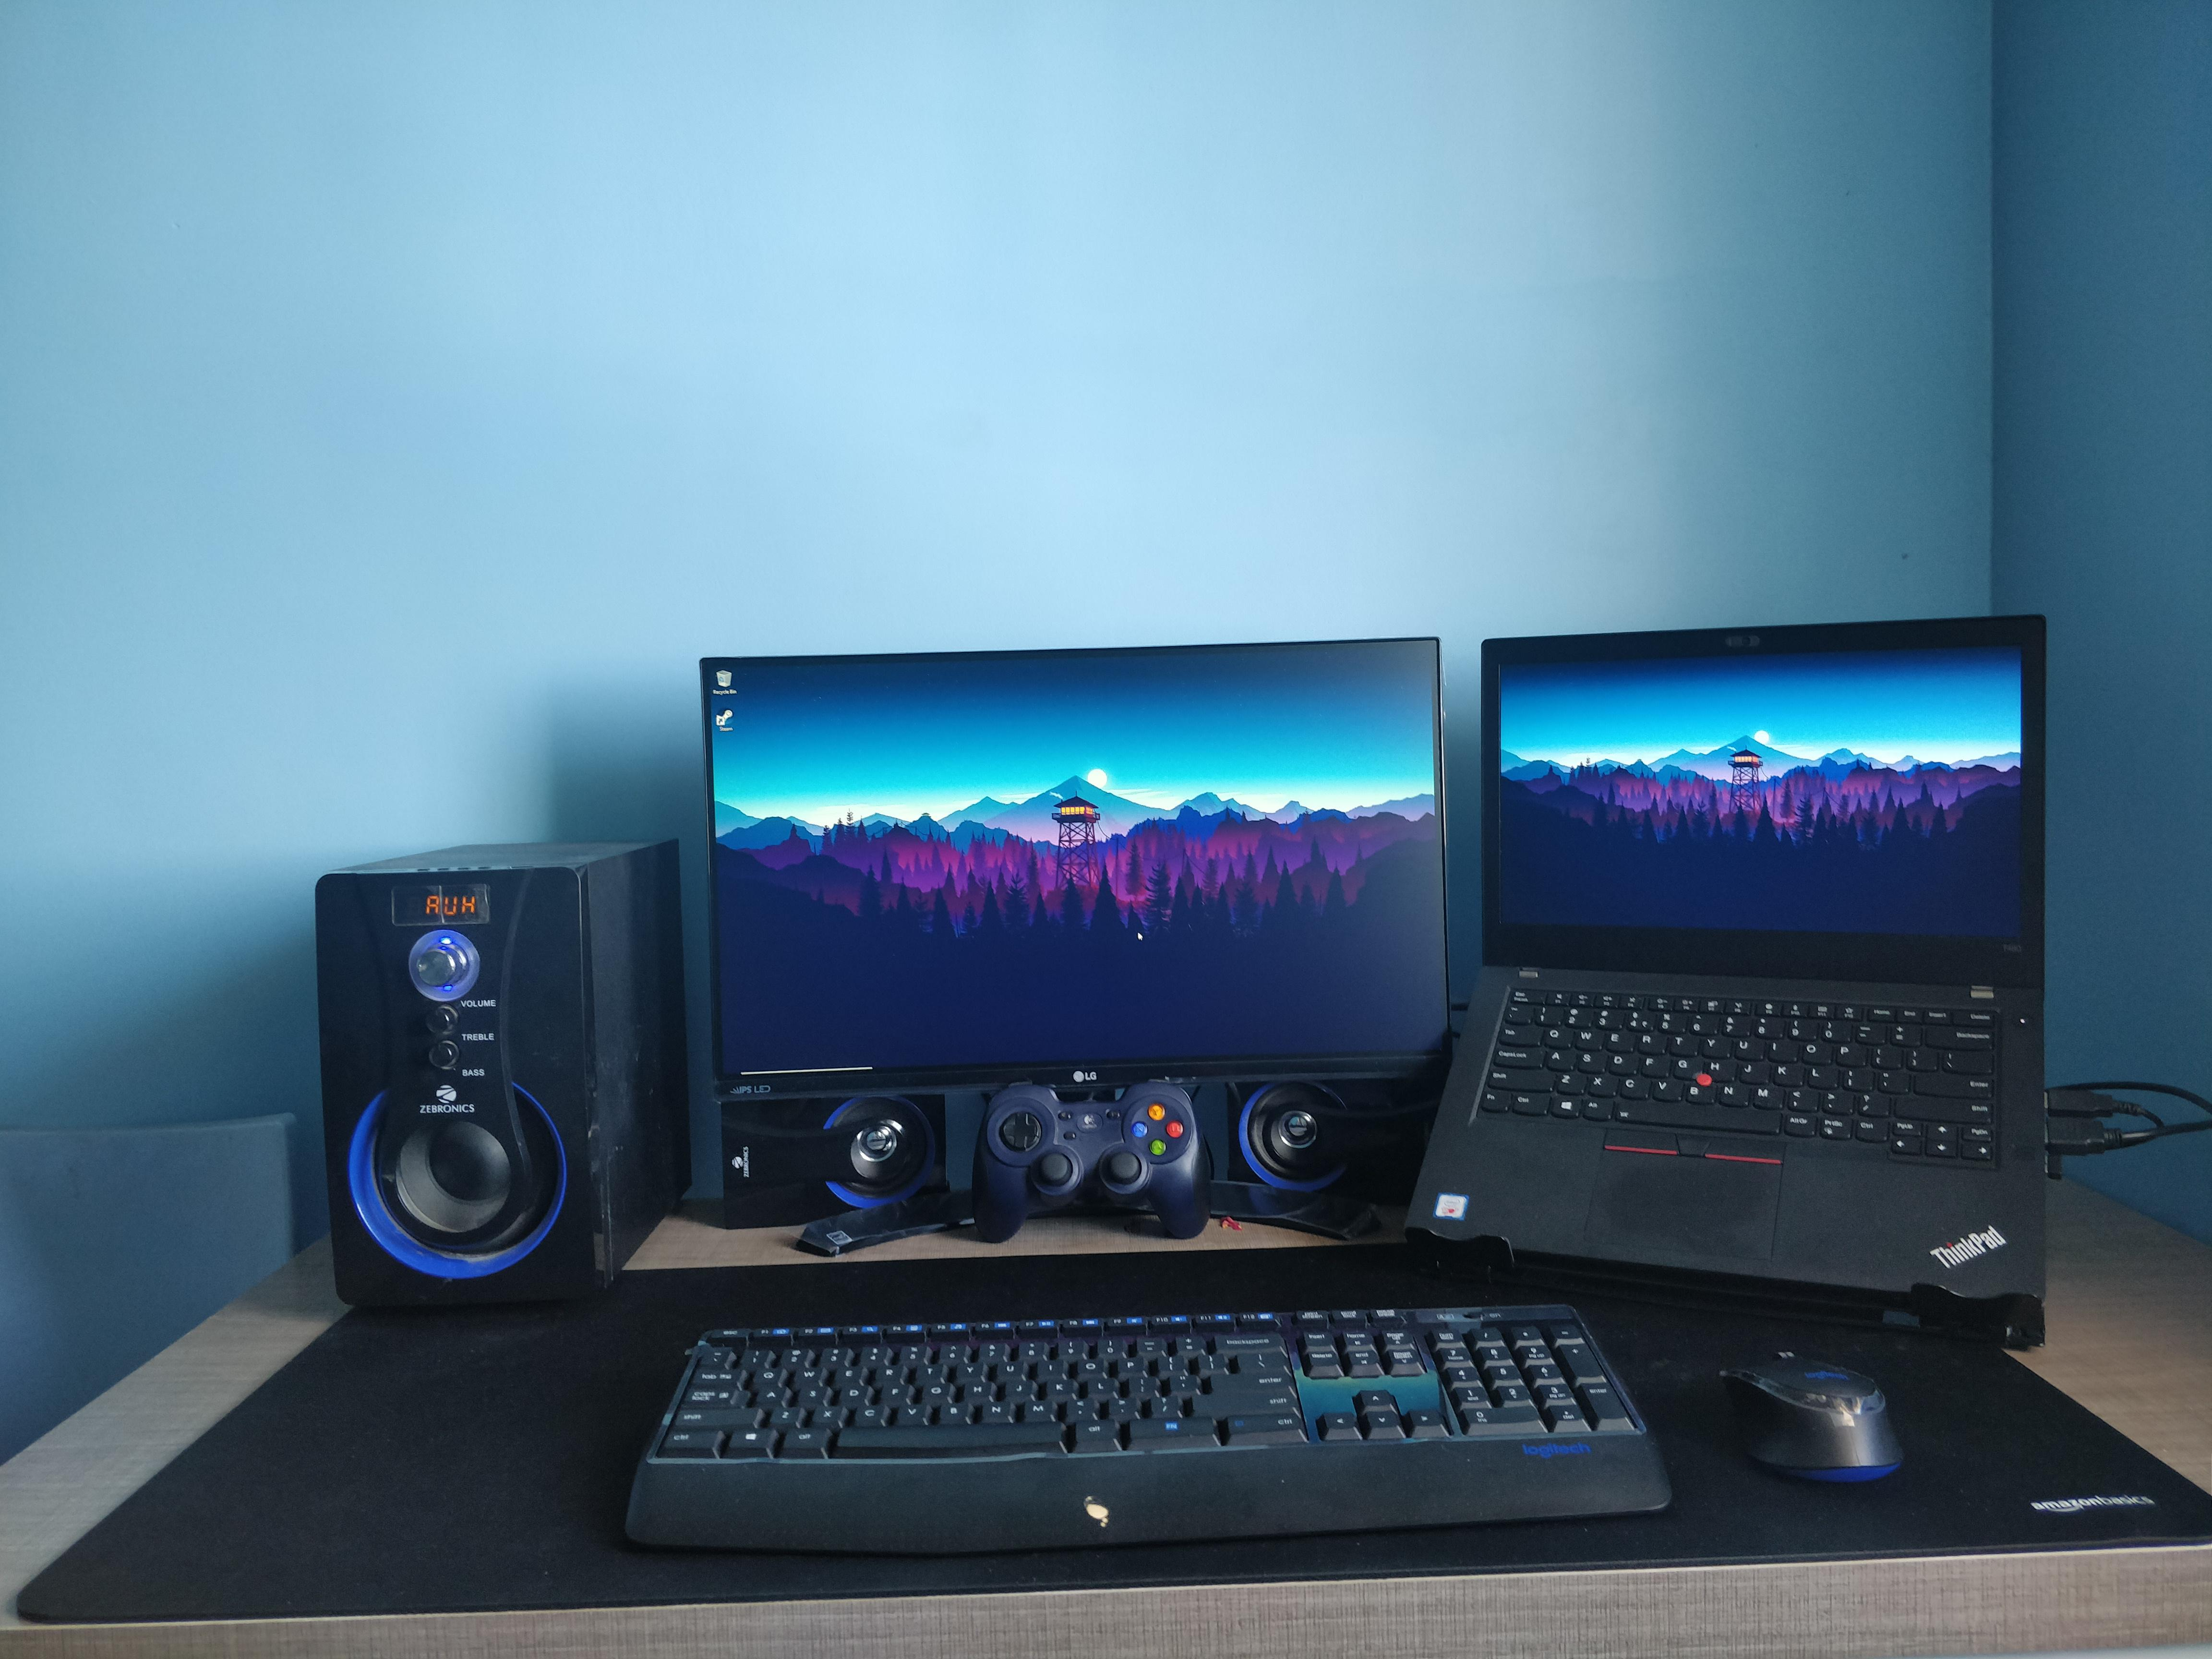Desk (Generic): (0, 1173, 2212, 1650)
External Speakers (Generic): (721, 1100, 942, 1211), (1226, 1082, 1425, 1199)
External Speakers (Subwoofers): (317, 864, 627, 1297)
Gaming Controller: (979, 1073, 1217, 1230)
Keyboard (Generic): (606, 1297, 1623, 1534)
Laptop (Windows): (1400, 627, 2057, 1256)
Laptop Stand: (1439, 958, 2055, 1340)
Monitor (Landscape): (718, 645, 1446, 1101)
Monitor (Laptop): (1486, 627, 2041, 986)
Mouse (Generic): (1721, 1330, 1900, 1481)
Mousepad (Generic): (21, 1281, 2212, 1617)
